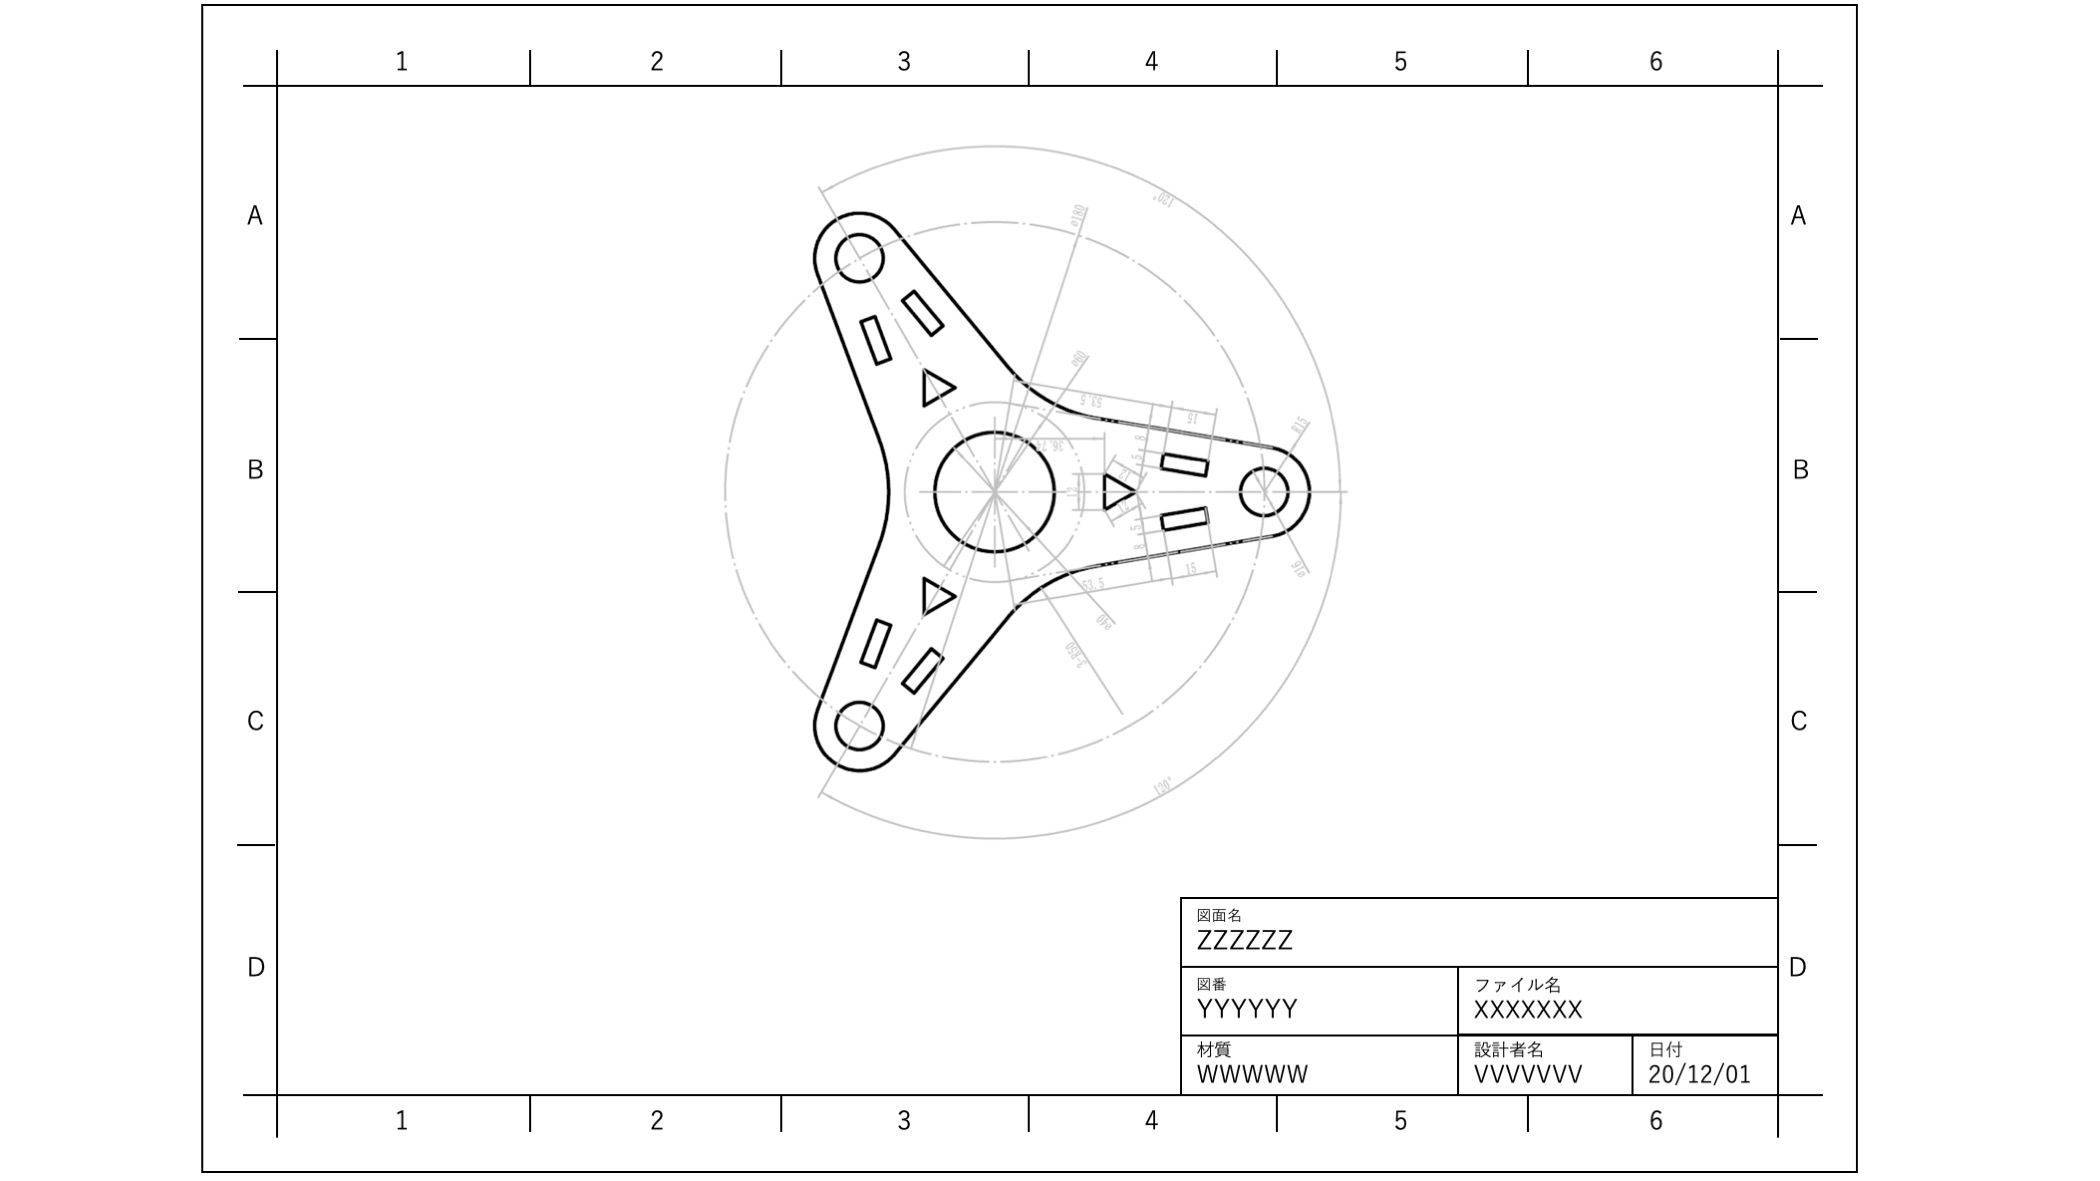circle: (930, 424, 1060, 559), (1236, 461, 1292, 528), (828, 226, 890, 284), (834, 689, 886, 753)
rectangle: (1148, 438, 1214, 487), (901, 281, 952, 336), (1158, 499, 1219, 539), (904, 627, 940, 691), (860, 609, 891, 671), (861, 314, 899, 362)
triangle: (914, 562, 959, 620), (1096, 459, 1139, 516), (914, 362, 959, 410)
